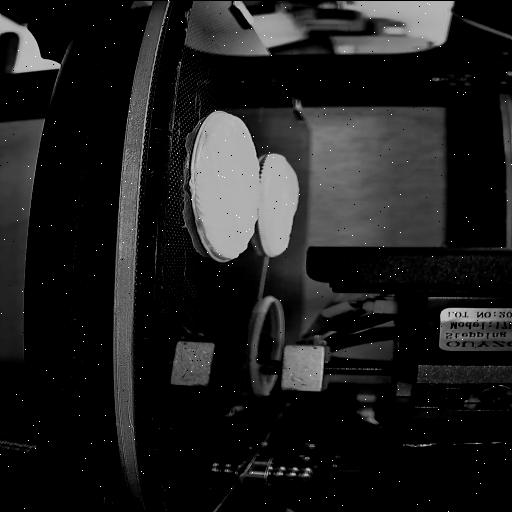over_extrusion: (203, 244, 239, 261), (260, 374, 272, 396)
